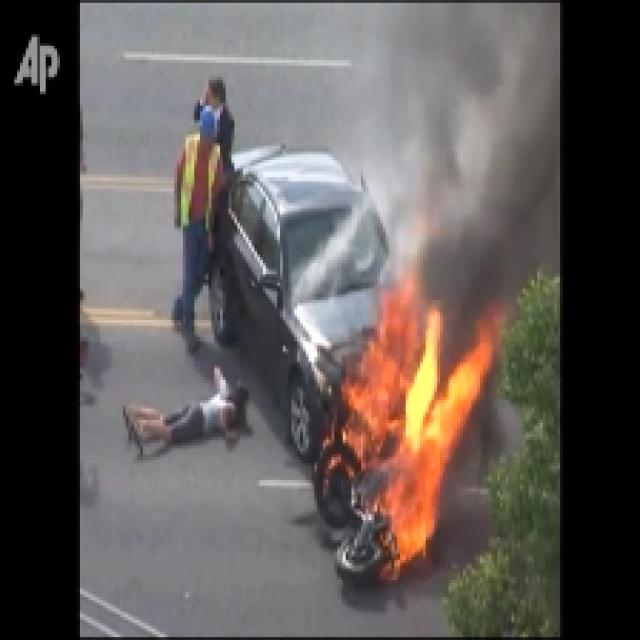fire: (349, 330, 474, 556)
smoke: (402, 20, 547, 306)
